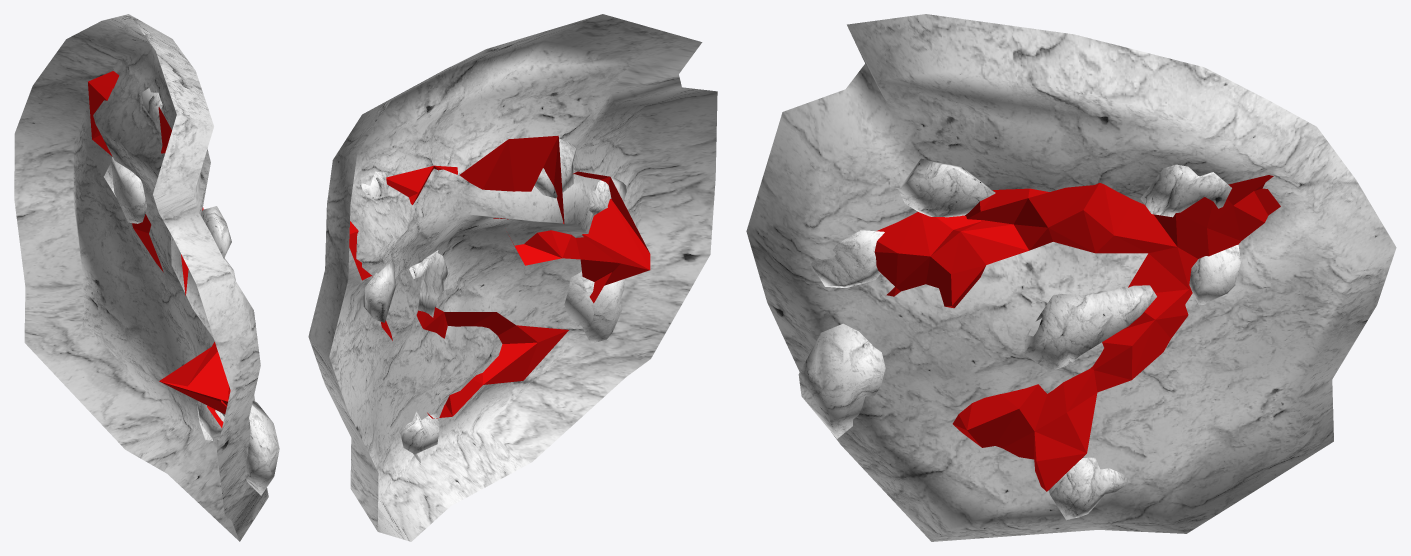
File: Alt_Light_3_TOGETHER_curve_V.fbx
3 renders of one model, left to right at view 1: azimuth 30°, elevation 25°; view 2: azimuth 150°, elevation 25°; view 3: azimuth 270°, elevation 25°, orthographic. The views are drawn at different scales.
Visible parts, largest first — view 1: iii_r, iii_e; view 2: iii_r, iii_e; view 3: iii_r, iii_e.
Part boxes in pixels (bbox=[...]): iii_r: bbox=[14, 14, 279, 541]; iii_e: bbox=[88, 71, 230, 427]; iii_r: bbox=[308, 14, 717, 541]; iii_e: bbox=[349, 135, 650, 418]; iii_r: bbox=[746, 14, 1396, 541]; iii_e: bbox=[874, 175, 1280, 491].
Size of the model in its own units: 25.58 by 60.37 by 71.59.
